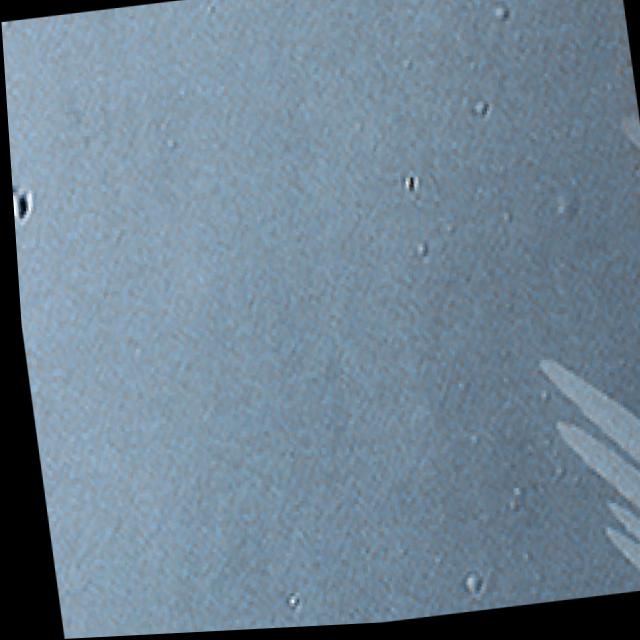Crater: (9, 176, 40, 233)
